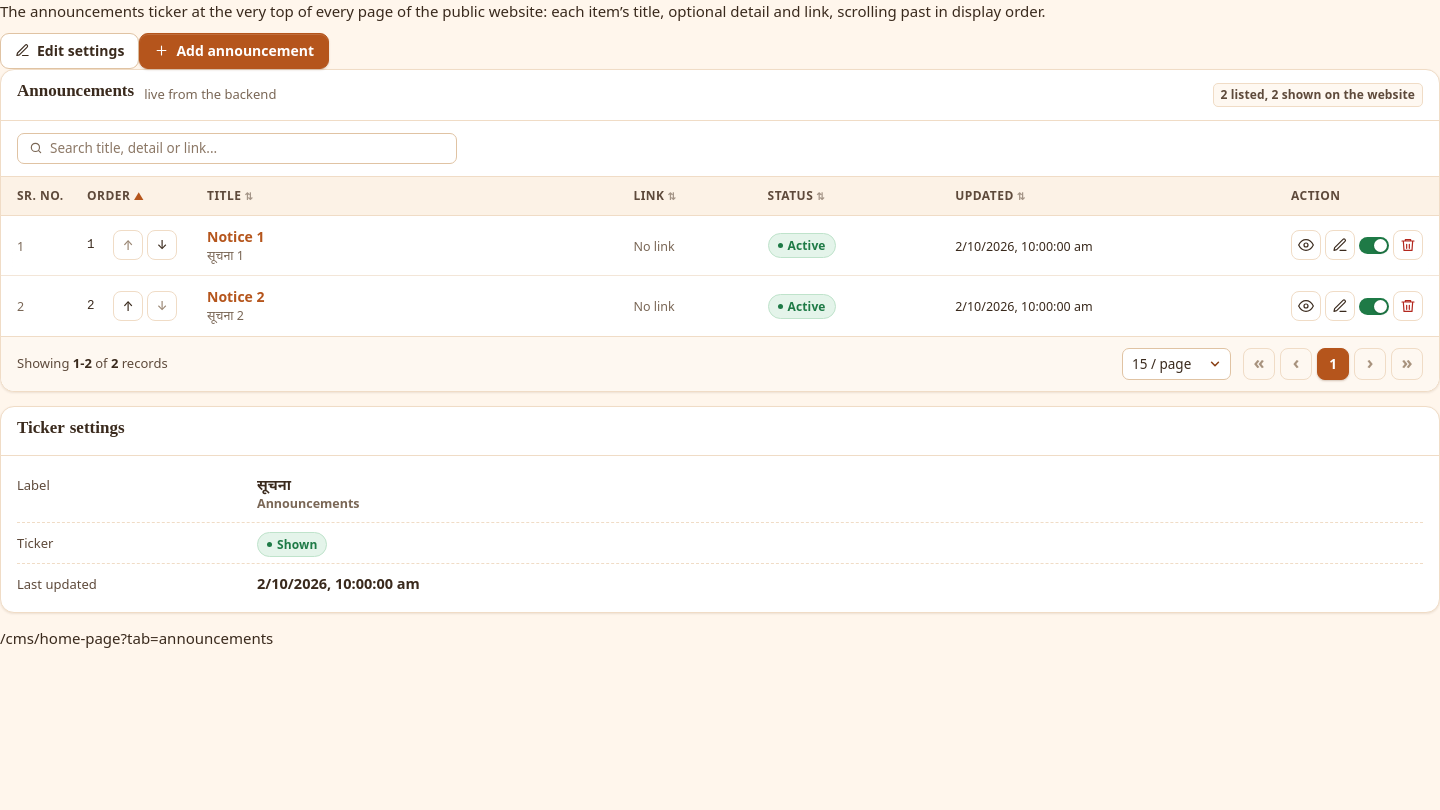
Scenario: Announcements list › switches an announcement off through the status toggle after asking, by id
What coordinates should you click on to do the following:
click the switch named "Notice 2: active"
I would click on:
 (1374, 306)
Its box is [1359,298,1389,315].
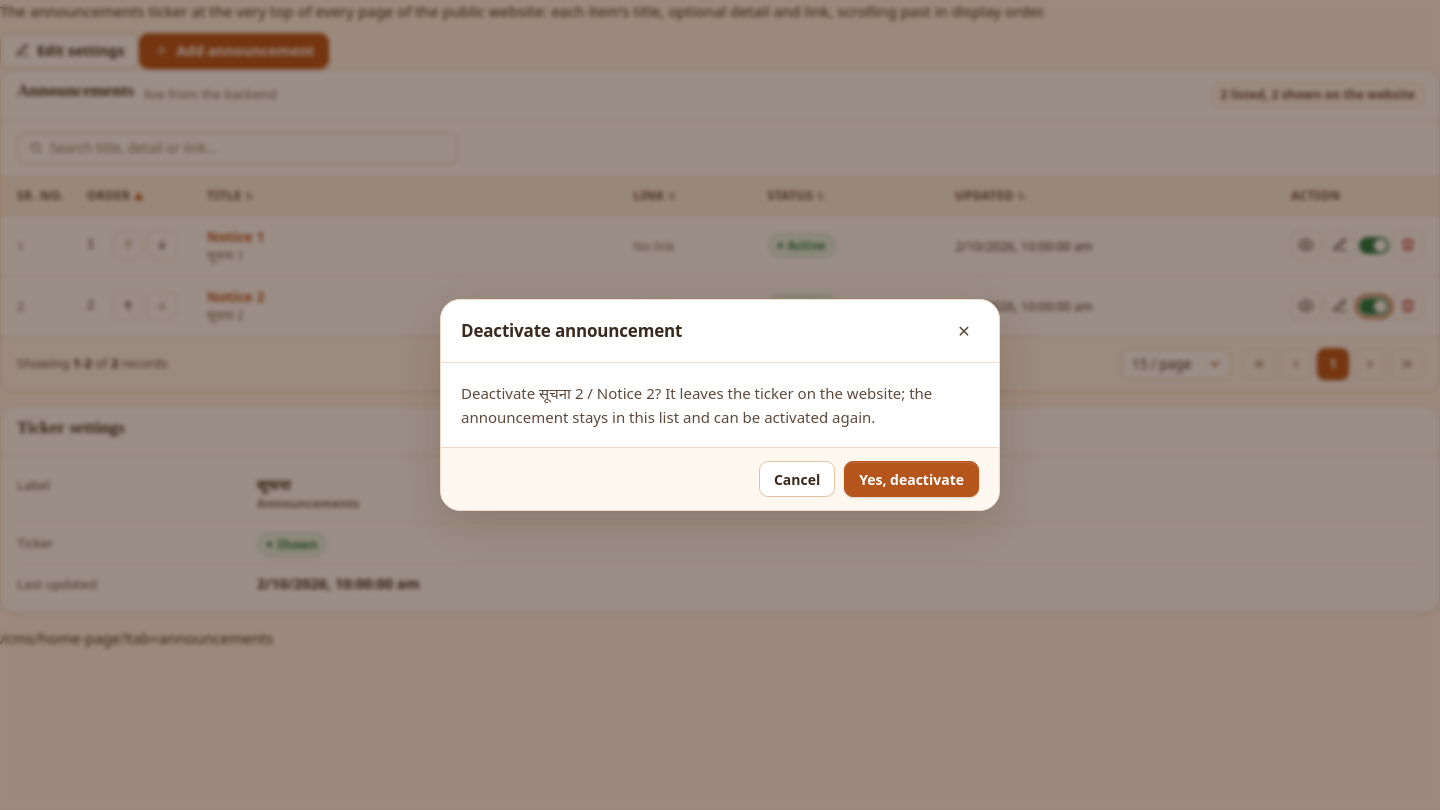
Expected: the dialog shows "Deactivate सूचना 2 / Notice 2?", [461,383,932,427]
What coordinates should you click on to do the following:
click the button "Yes, deactivate"
I would click on:
 (912, 479)
Its box is [844,461,979,497].
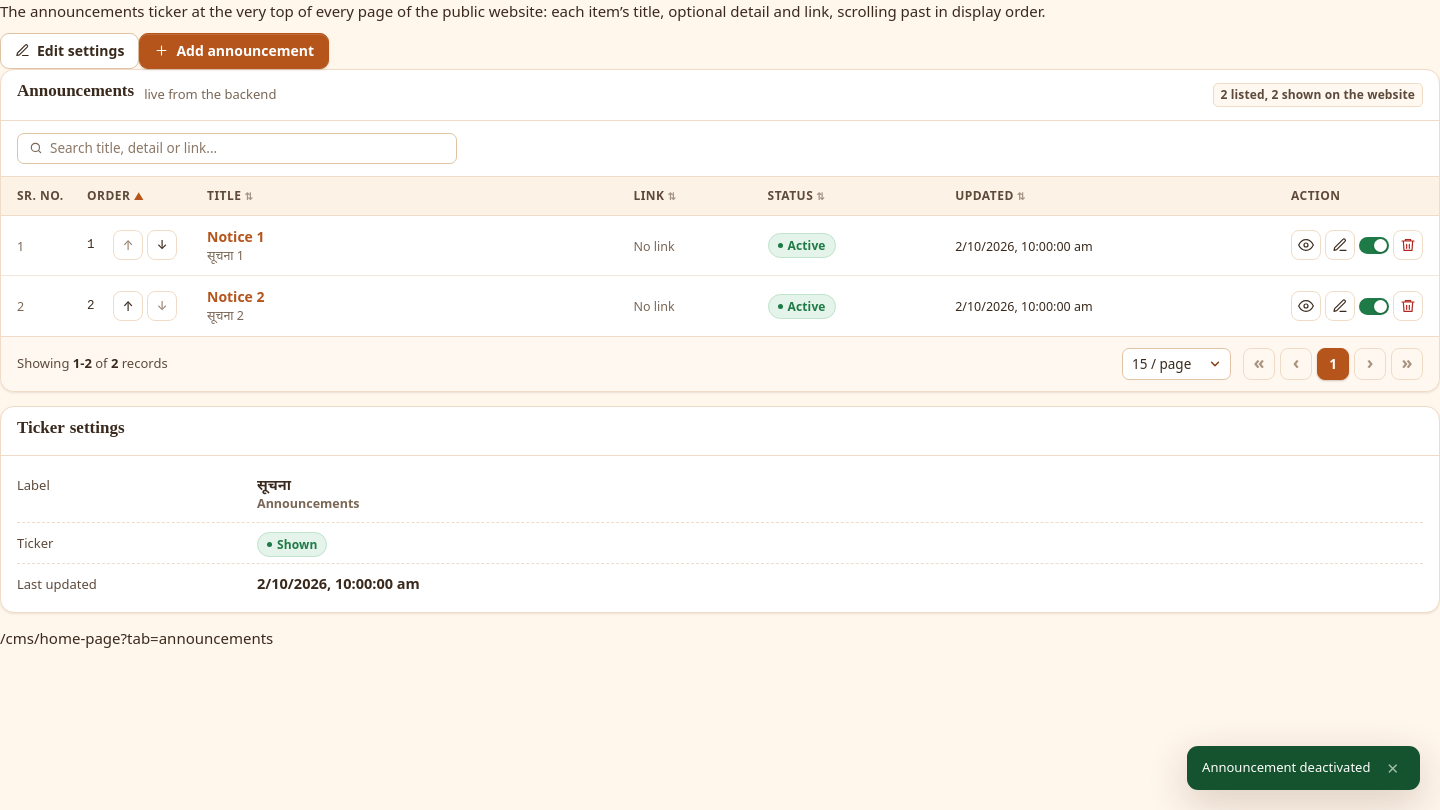
Expected: the text with test id "location" reads "/cms/home-page?tab=announcements", [0,628,273,648]
Expected: the element with id "toast-root" shows "Announcement deactivated", [1202,758,1370,776]
